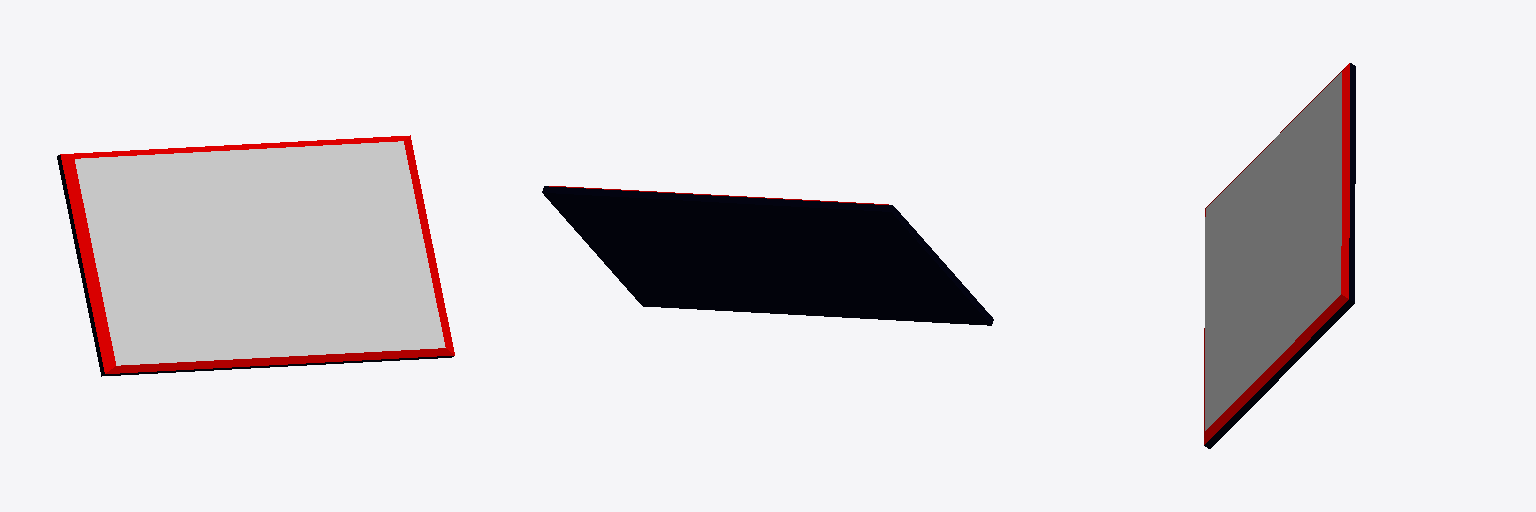
File: b4_body.obj
3 renders of one model, left to right at view 1: azimuth 30°, elevation 25°; view 2: azimuth 150°, elevation 25°; view 3: azimuth 270°, elevation 25°, orthographic.
Visible parts, largest first — view 1: b4; view 2: b4; view 3: b4.
Part boxes in pixels (x1,y1,x2,y2): b4: (57,135,454,376); b4: (542,186,993,325); b4: (1204,63,1355,448).
Size of the model in its own units: 0.0589 by 0.0343 by 0.0204.